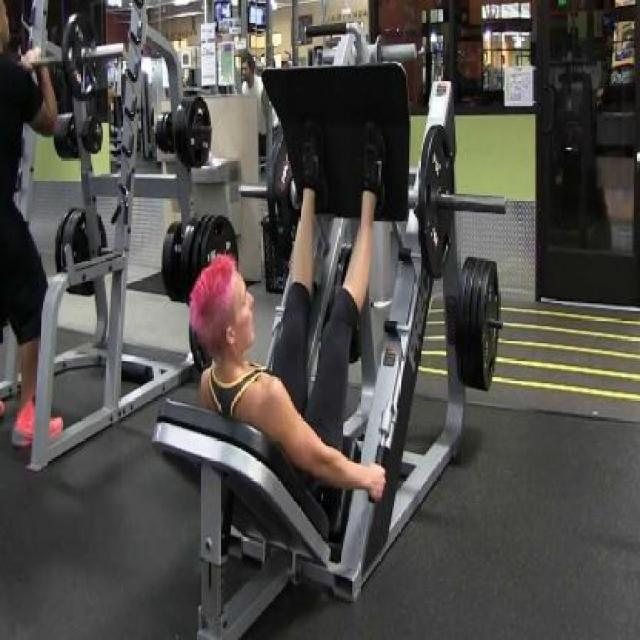leg press: (148, 15, 504, 640)
